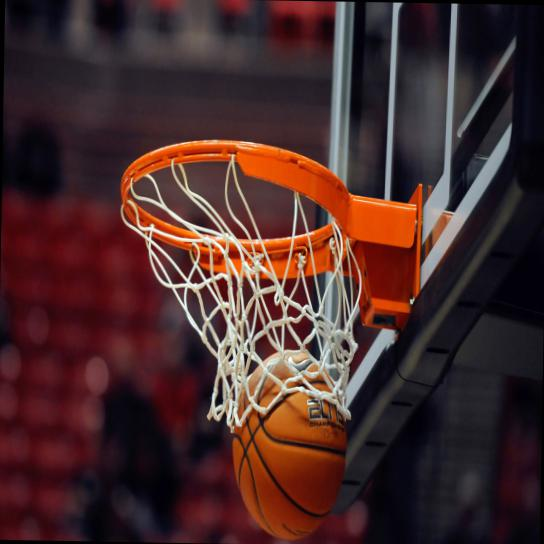basketball-hoop: (110, 131, 367, 434)
